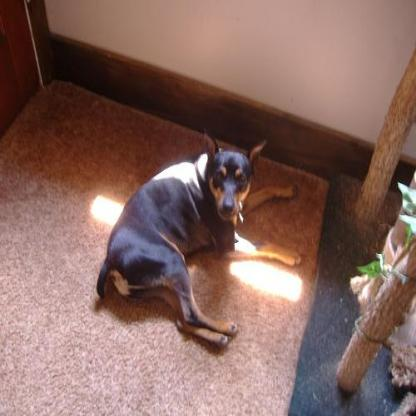miniature_pinscher: (92, 129, 304, 350)
